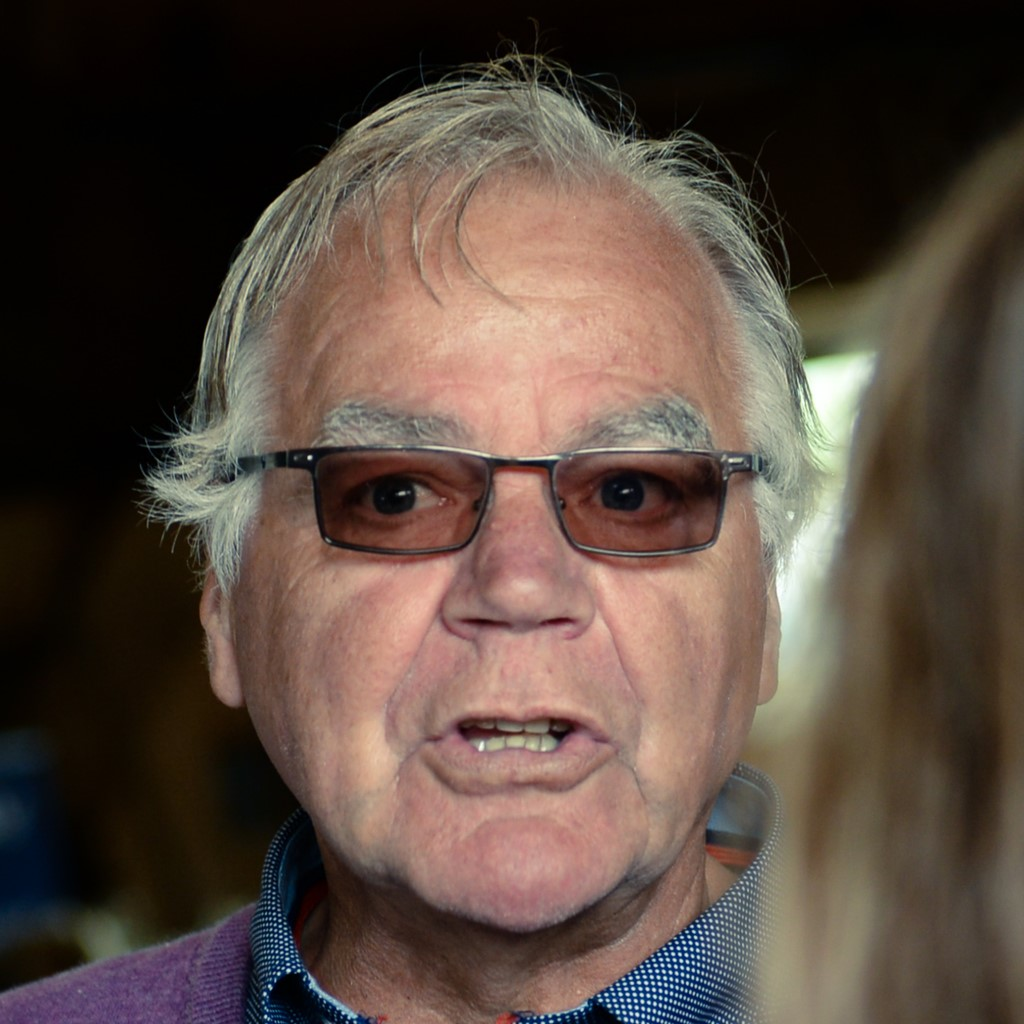sin_mascara: (237, 162, 743, 923)
